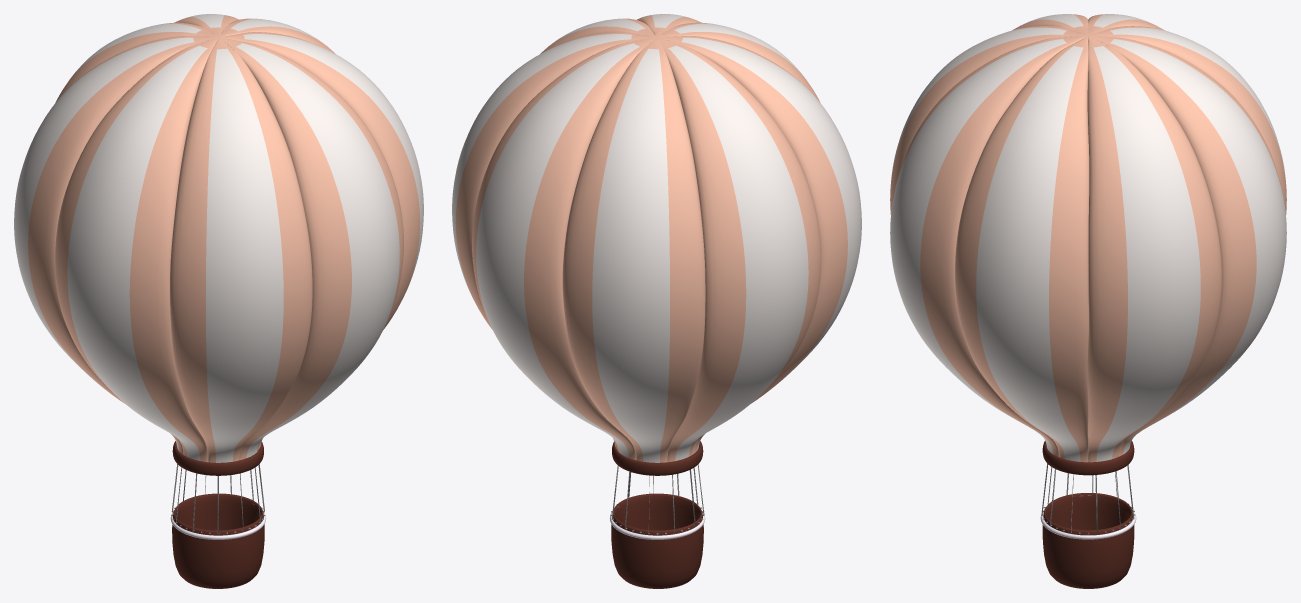
3 views of the same model, side by side, from view 1: azimuth 30°, elevation 25°; view 2: azimuth 150°, elevation 25°; view 3: azimuth 270°, elevation 25° (orthographic).
Visible parts, largest first — view 1: Sphere, Circle, Circle.001, Cycloid.001; view 2: Sphere, Circle, Circle.001, Cycloid.001; view 3: Sphere, Circle, Circle.001, Cycloid.001, BezierCircle.
Part boxes in pixels (<box>): Sphere: <box>14,14,423,462</box>; Circle: <box>172,493,264,588</box>; Circle.001: <box>172,441,263,475</box>; Cycloid.001: <box>171,464,265,534</box>; Sphere: <box>452,14,861,462</box>; Circle: <box>611,493,703,588</box>; Circle.001: <box>612,441,703,475</box>; Cycloid.001: <box>610,464,704,534</box>; Sphere: <box>890,14,1286,462</box>; Circle: <box>1042,493,1134,588</box>; Circle.001: <box>1042,441,1134,475</box>; Cycloid.001: <box>1041,463,1135,533</box>; BezierCircle: <box>1040,509,1136,539</box>.
Size of the model in its own units: 777 by 1169 by 777.
